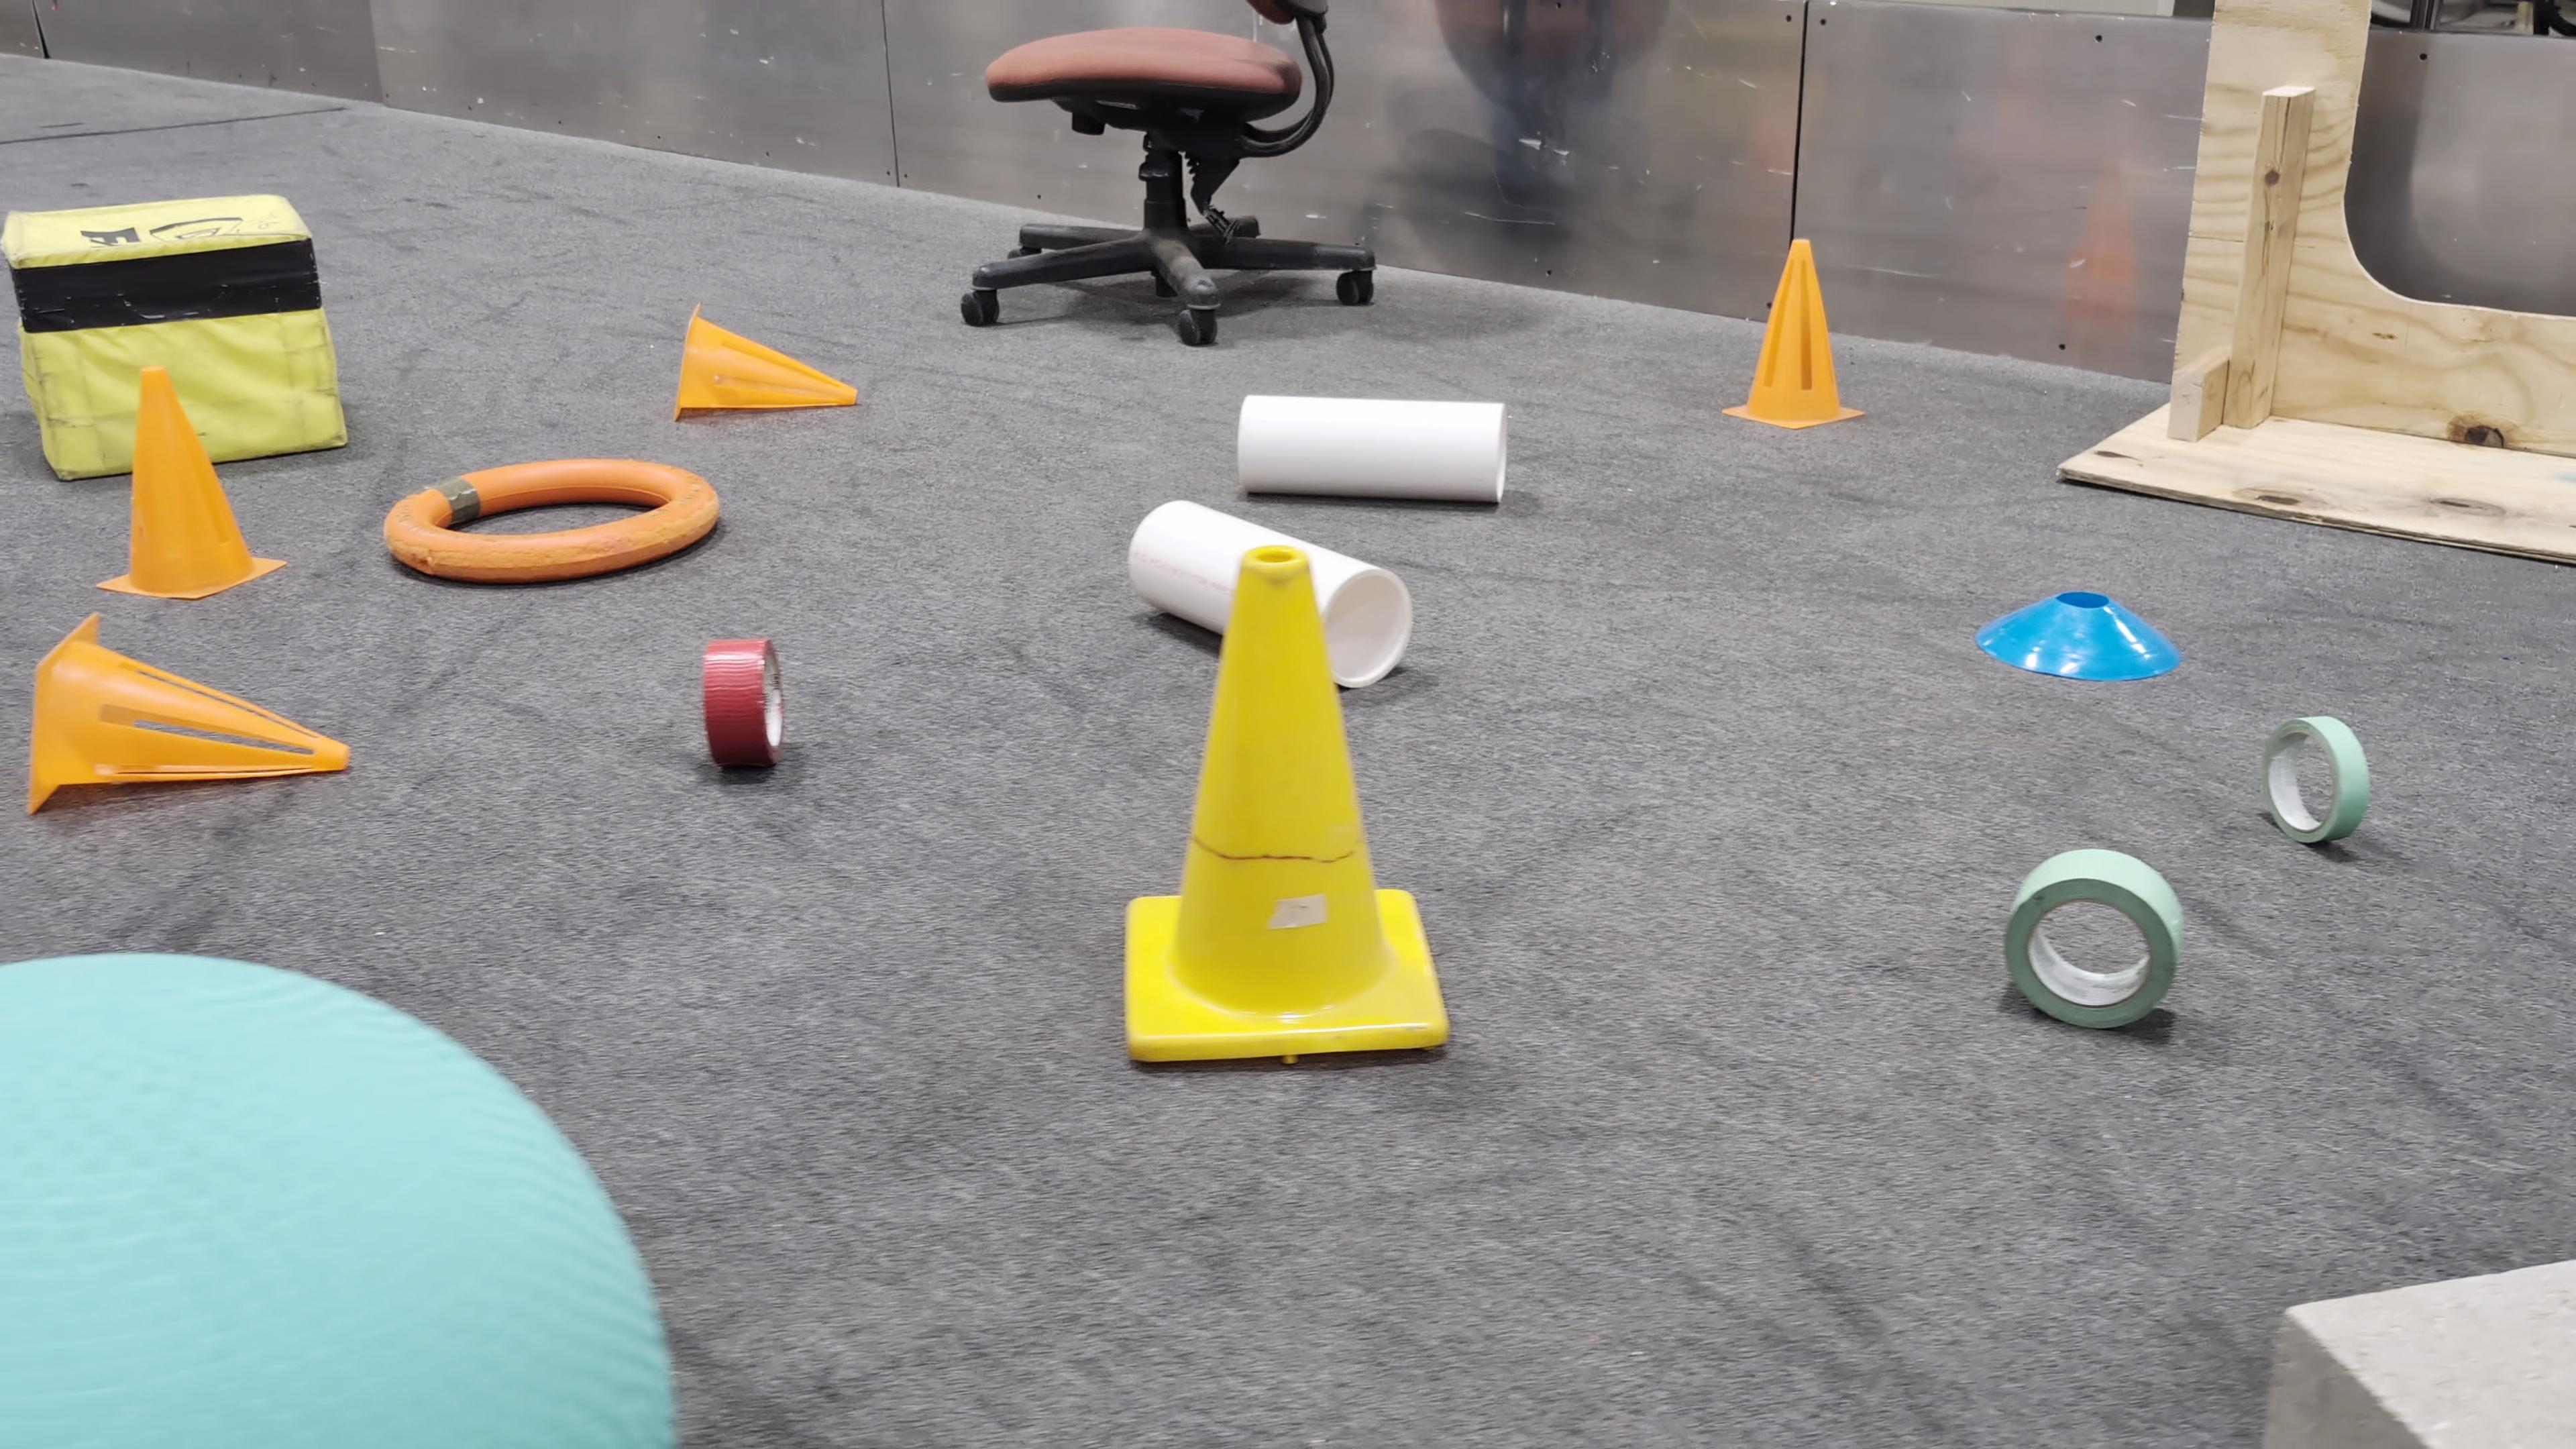algae: (0, 954, 676, 1449)
coral: (1132, 501, 1412, 690), (1240, 398, 1507, 506)
